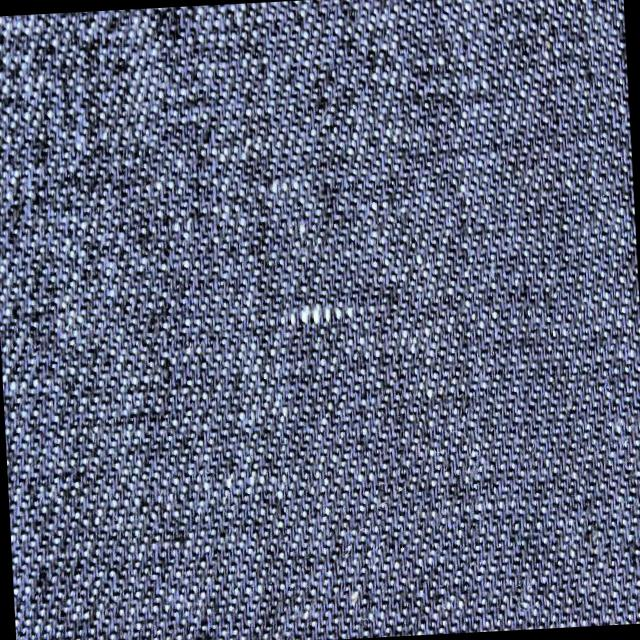baekra: (275, 297, 380, 332)
